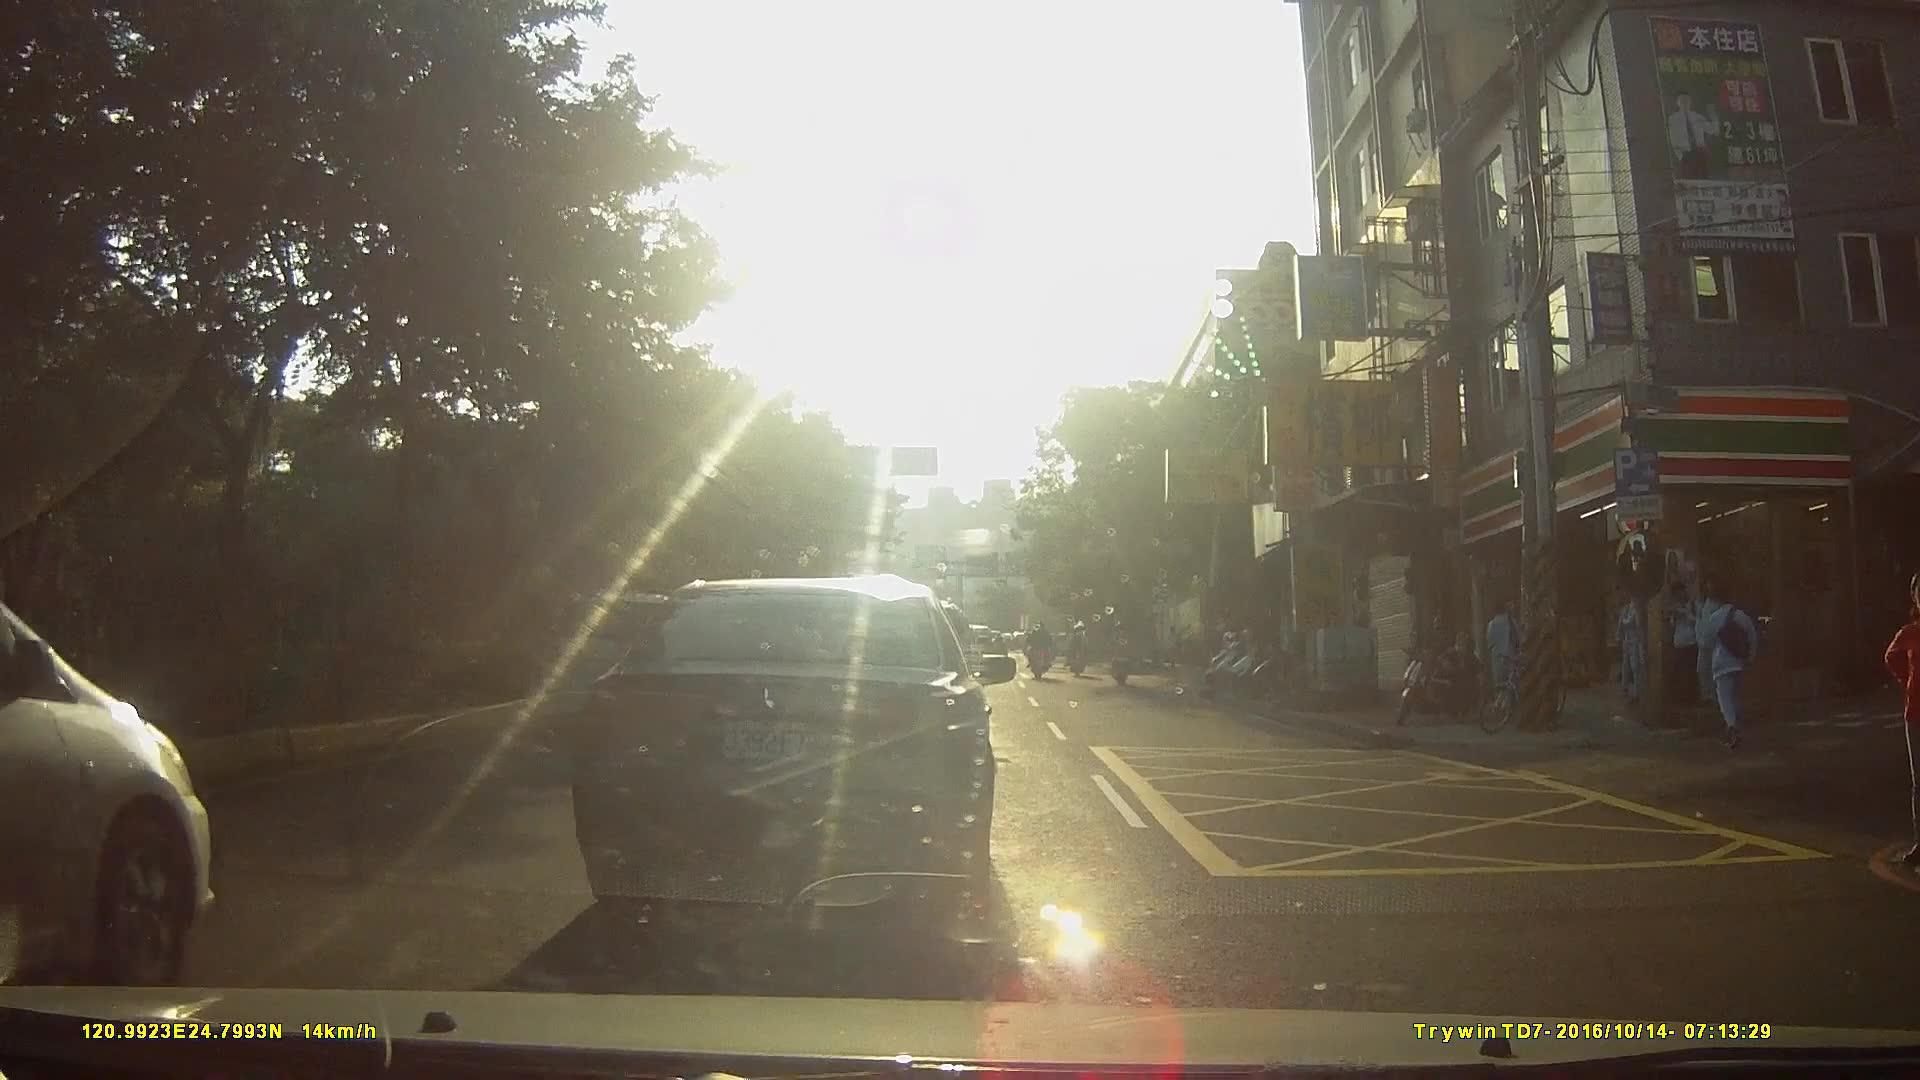pedestrian: (1691, 583, 1768, 753), (1891, 567, 1920, 854), (1484, 598, 1529, 712), (1669, 570, 1705, 709), (1618, 583, 1655, 708)
rider: (1024, 619, 1055, 681), (1065, 620, 1095, 682), (1112, 620, 1136, 688)
vehicle: (553, 567, 1025, 947), (0, 507, 305, 985)
